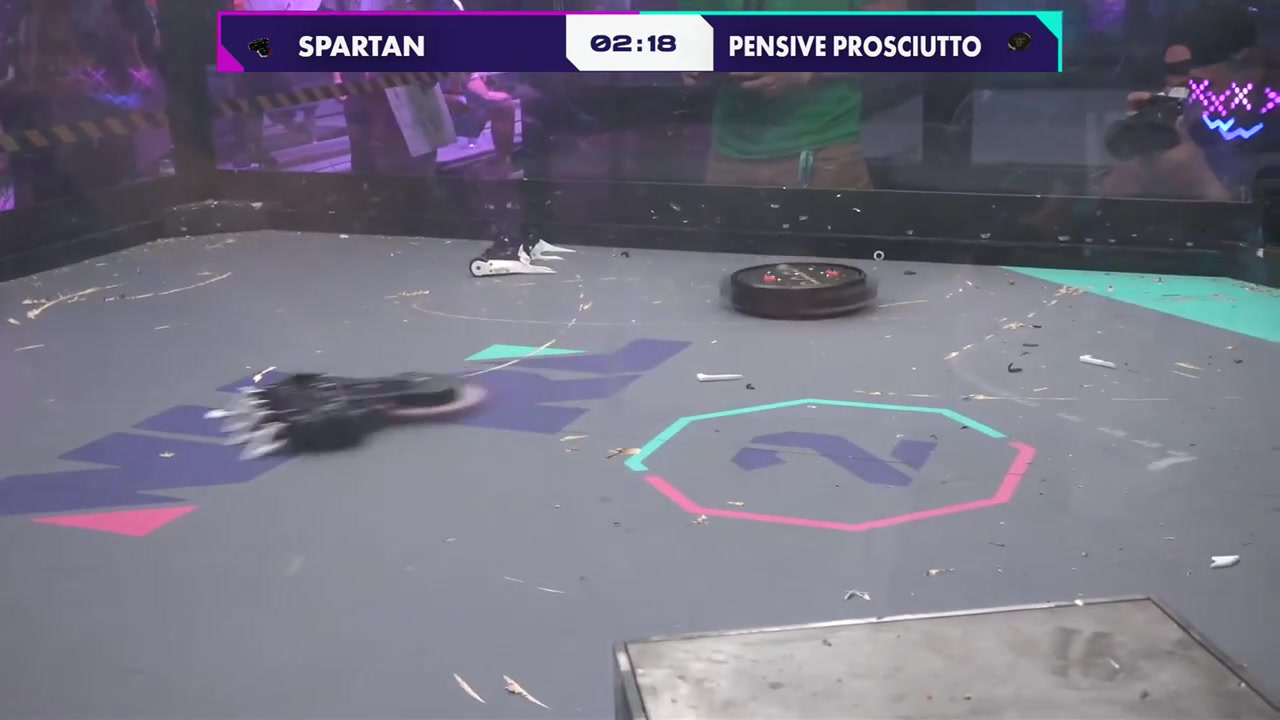combatbot: (206, 368, 488, 465), (718, 260, 883, 322)
debris: (1209, 552, 1241, 570)
housebot: (613, 593, 1280, 720)
minibot: (469, 234, 577, 279)
